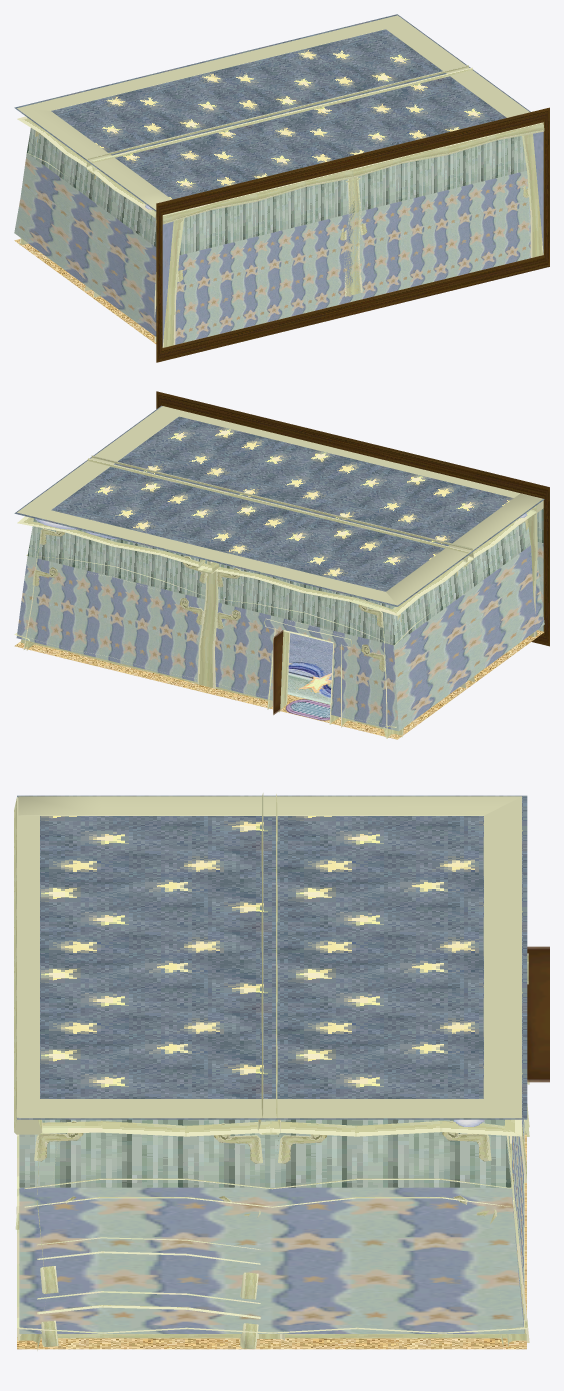
The model's file is room_25.glb.
3 renders of one model, top to bottom at view 1: azimuth 30°, elevation 25°; view 2: azimuth 150°, elevation 25°; view 3: azimuth 270°, elevation 25°, orthographic. The views are drawn at different scales.
Visible parts, largest first — view 1: room_25; view 2: room_25; view 3: room_25.
Boxes of the visible parts, x1,y1,x2,y2 form: room_25: (14,14,549,362); room_25: (14,391,549,739); room_25: (14,793,549,1350).
Bounding box in the file's own units: 1550 × 599 × 1056.
12 materials, 12 textured.
